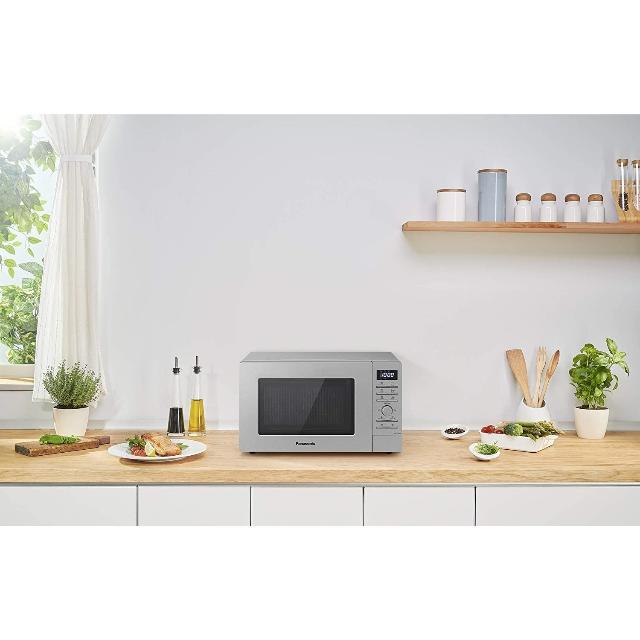Microwave: (238, 349, 406, 461)
